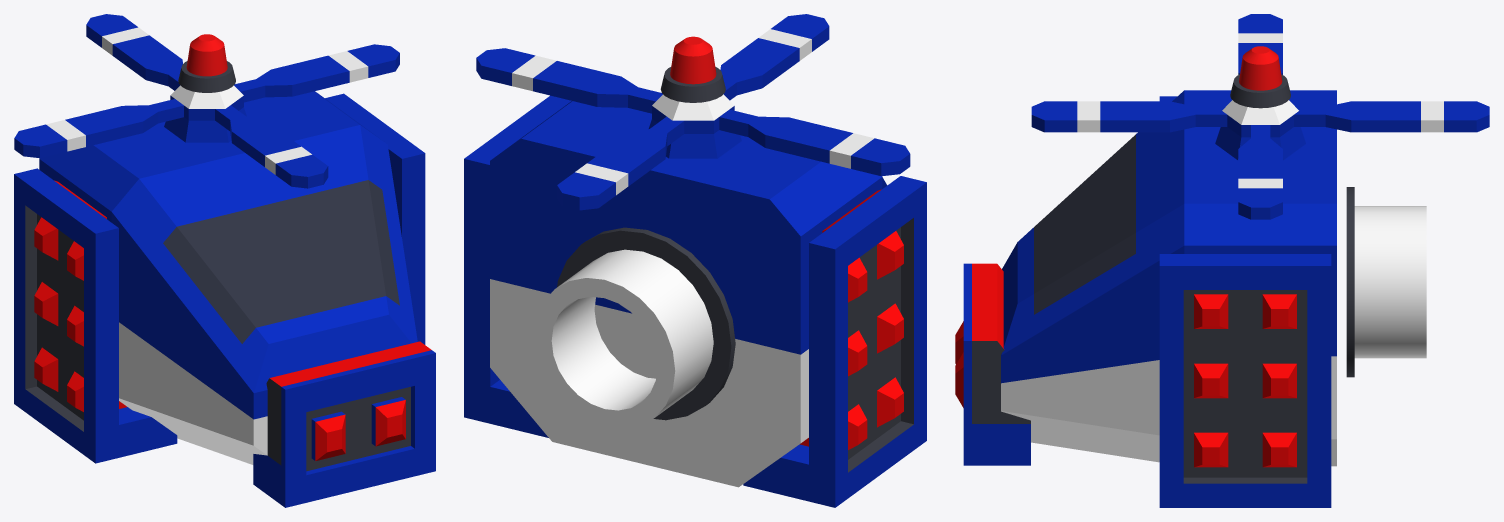
The model's file is enemy_3.fbx.
The picture shows the model from 3 angles, left to right: view 1: azimuth 30°, elevation 25°; view 2: azimuth 150°, elevation 25°; view 3: azimuth 270°, elevation 25°; orthographic projection. The views are drawn at different scales.
Visible parts, largest first — view 1: hull_cockpitPoint, weapon_turretLarge (×2), weapon_turretSmall, propeller_quad, hull_body, detail_siren; view 2: hull_body, weapon_turretLarge (×2), pipe_large, propeller_quad, detail_siren; view 3: hull_cockpitPoint, weapon_turretLarge, propeller_quad, hull_body, pipe_large, weapon_turretSmall, detail_siren.
Boxes of the visible parts, x1,y1,x2,y2 form: hull_cockpitPoint: (111, 125, 417, 464); weapon_turretLarge (×2): (14, 93, 425, 463); weapon_turretSmall: (253, 341, 435, 507); propeller_quad: (14, 14, 399, 188); hull_body: (39, 91, 380, 222); detail_siren: (178, 34, 235, 92); hull_body: (490, 101, 882, 487); weapon_turretLarge (×2): (464, 95, 926, 507); pipe_large: (534, 227, 735, 429); propeller_quad: (476, 14, 910, 210); detail_siren: (660, 36, 725, 102); hull_cockpitPoint: (1001, 90, 1184, 462); weapon_turretLarge: (1159, 254, 1331, 507); propeller_quad: (1031, 14, 1489, 219); hull_body: (1184, 90, 1336, 466); pipe_large: (1346, 187, 1426, 377); weapon_turretSmall: (955, 263, 1030, 465); detail_siren: (1230, 46, 1290, 108).
Size of the model in its own units: 6 by 5.36 by 7.
